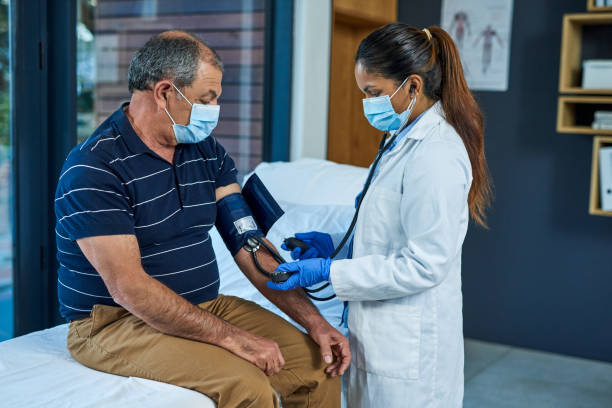with mask: (131, 24, 227, 151), (351, 17, 439, 135)
